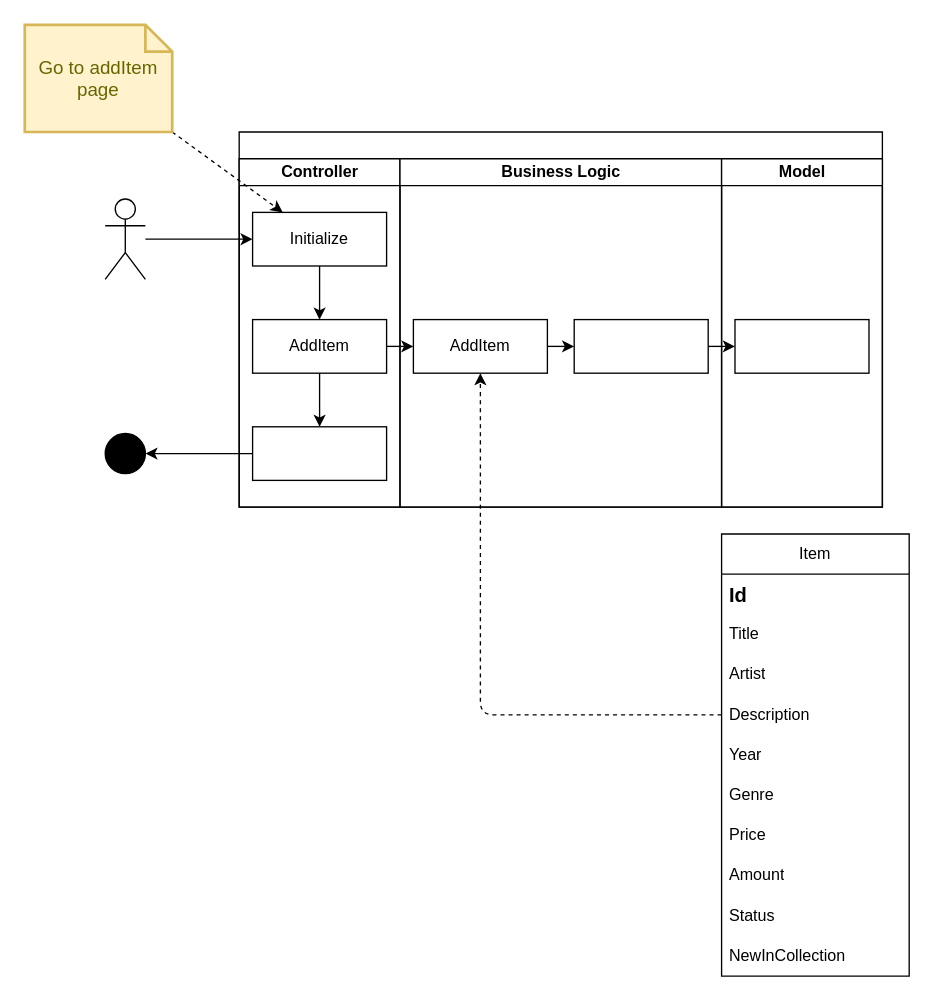
This 933x1000 diagram has some shape labels left out. Here are the shapes that lost their labels. From the top down, the centre of each, then its label:
the point at 124,238: Admin
the point at 640,345: Validate
the point at 801,345: CreateItem
the point at 319,452: ShowItems
